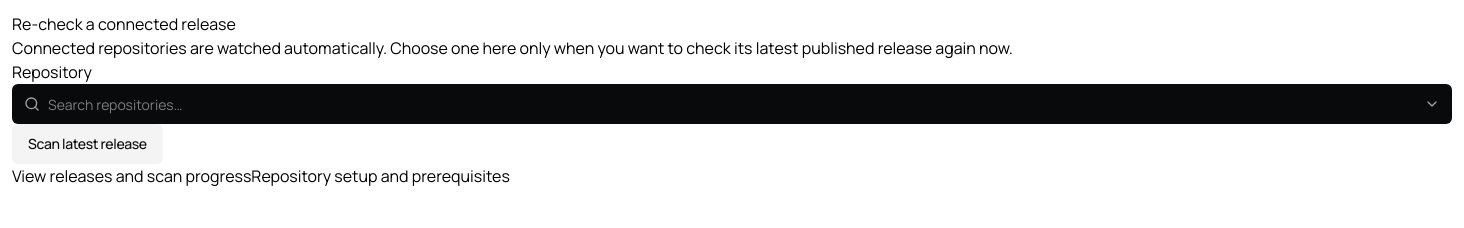
Test: distinguishes rejected submission from uncertain acceptance (network)
Click the dropdown named "Repository".
click(732, 104)  # box [12,84,1452,124]
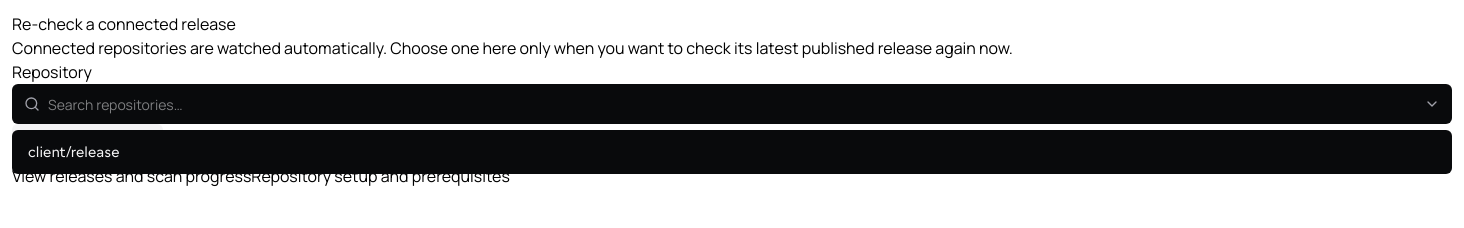
Click the option "client/release".
click(74, 152)  # box [28,144,120,160]
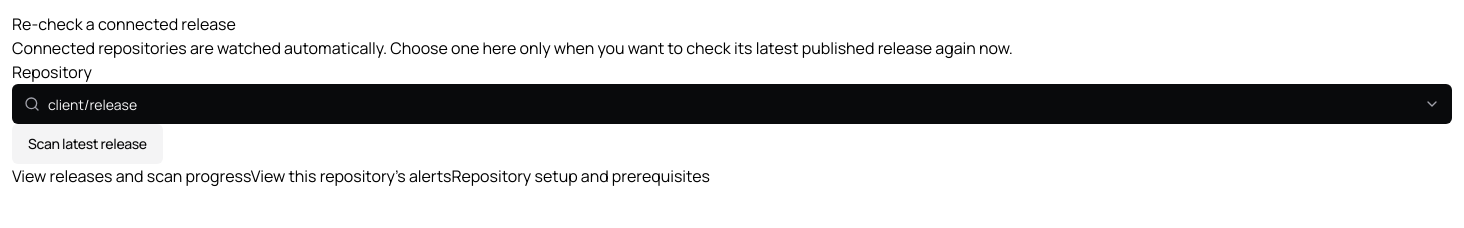
Click the button "Scan latest release".
click(87, 144)  # box [12,124,163,164]
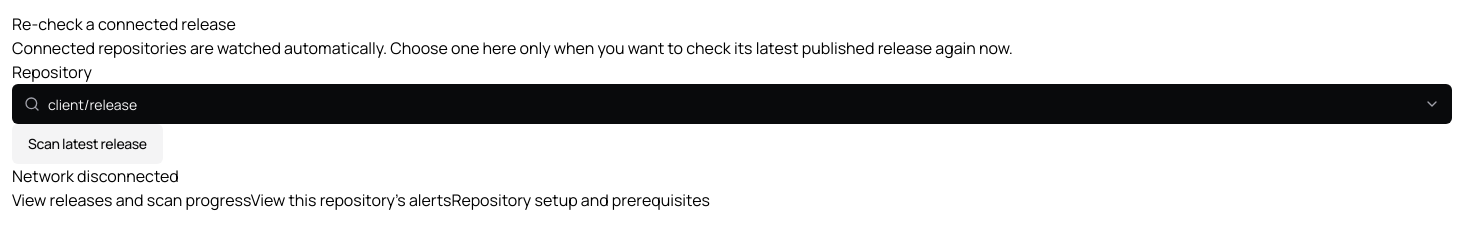
Now the message "Network disconnected" is shown, box [12,165,179,187]
